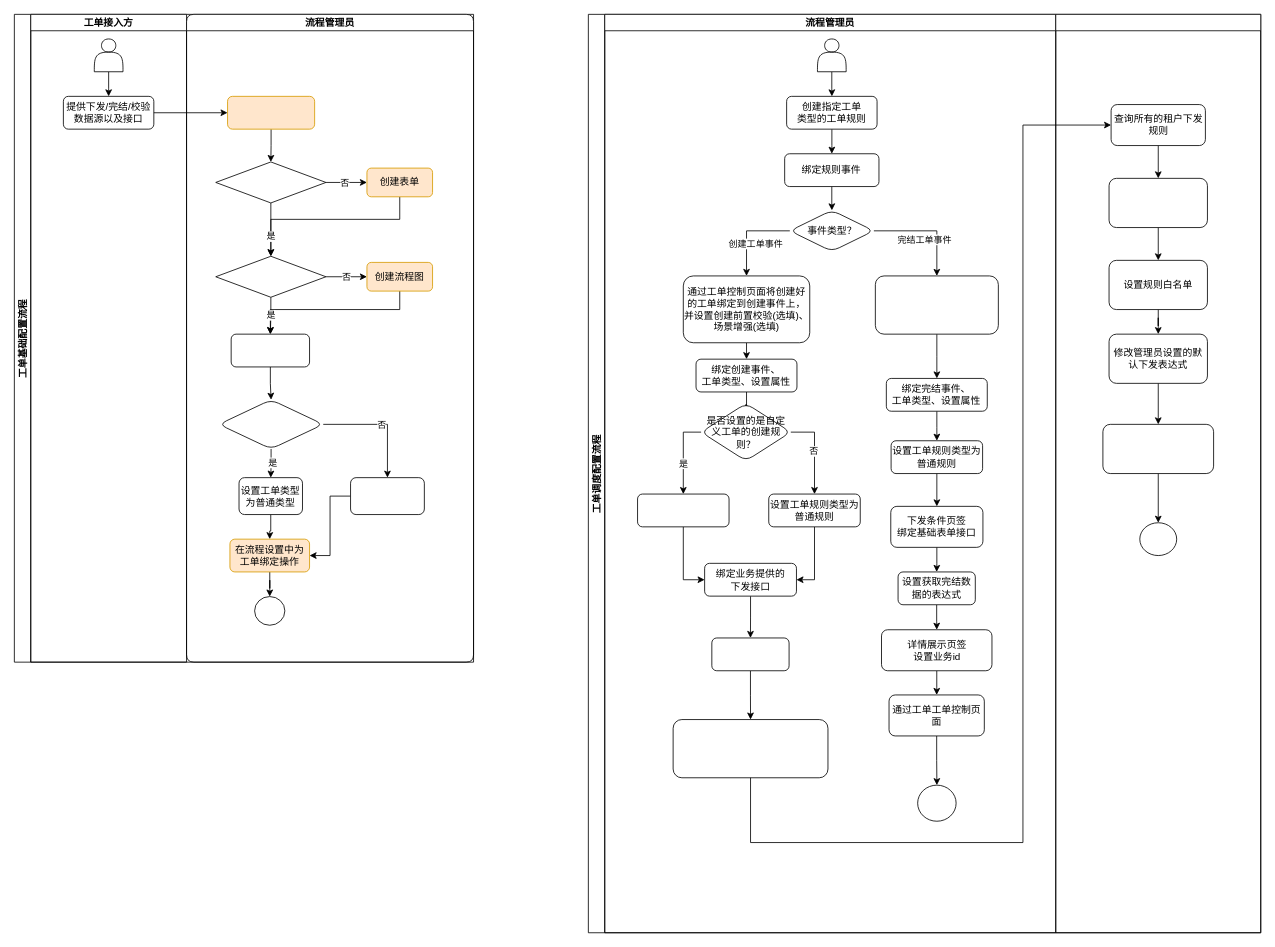
Some shapes in this 1275 by 947 pixel diagram are drawn without their labels. The shapes that lost their labels are listed below. From the top down, each one's box as (x1, y1, x2, y2) in pixels, then its label:
(227, 96, 315, 129): 创建新的工单类型
(215, 161, 326, 203): 是否使用已 存在的表单？
(1108, 178, 1207, 228): 操作规则(启用、禁用、查看、重置等等)
(215, 255, 326, 297): 是否使用 已存在的流程？
(875, 275, 998, 334): 通过工单控制页面将创建好的工单绑定到完结事件上， 并设置完结前置校验(必填)，场景增长(选填)
(230, 333, 310, 367): 工单类型绑定表单、绑定流程
(218, 399, 323, 449): 当前工单类型是否为 自定义工单类型？
(1102, 424, 1214, 474): 使用预测工单功能，通过根据当前表达式、与白名单设置的情况，查看预计下发的工单数量
(1055, 14, 1261, 933): 租户(小电、代理商、合资公司)
(350, 477, 424, 515): 设置为自 定义类型(直营/渠道)
(637, 493, 729, 527): 设置工单规则类型为租户下发规则
(711, 637, 789, 671): 设置下发数据 的条件表达式
(672, 719, 828, 778): 在详情展示页签，通过工单类型绑定的表单与规则绑定的数据源返回值，匹配设置工单处理人、工单业务等信息
